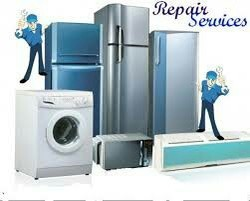AC: (156, 136, 250, 169)
Refrigerator: (105, 5, 149, 133), (153, 31, 198, 130), (49, 25, 101, 89)
